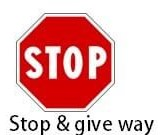Traffic signal: (15, 12, 117, 111)
